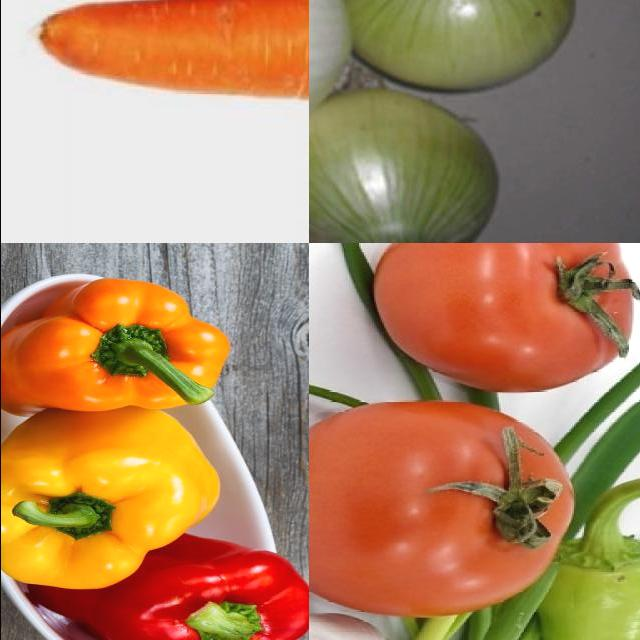bell_pepper: (1, 416, 225, 592), (1, 274, 233, 414), (42, 535, 309, 640)
carrot: (27, 1, 309, 121)
onion: (309, 102, 504, 244), (341, 1, 579, 94)
tomato: (309, 400, 576, 615), (369, 244, 640, 393)
